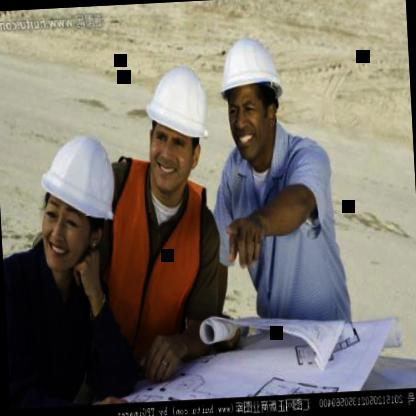helmet: (31, 124, 129, 280), (134, 57, 218, 197), (209, 27, 292, 168)
